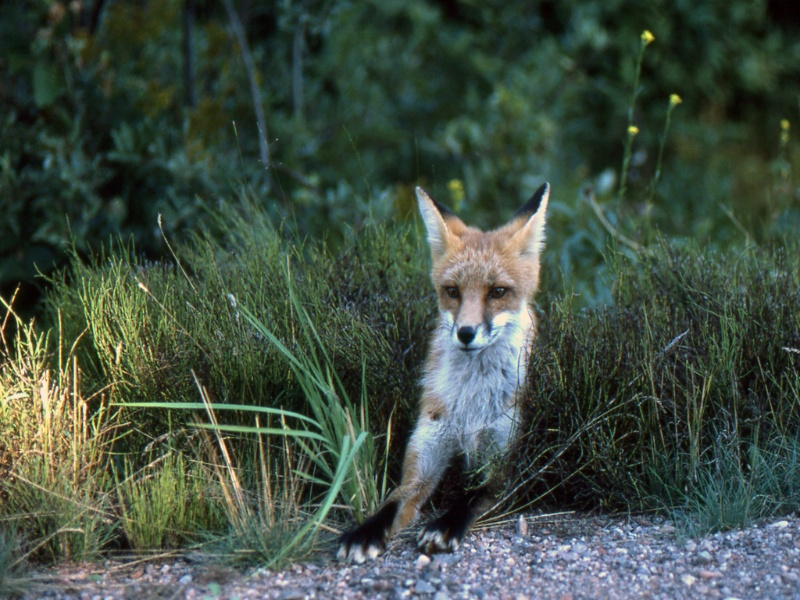fox: (328, 177, 561, 574)
